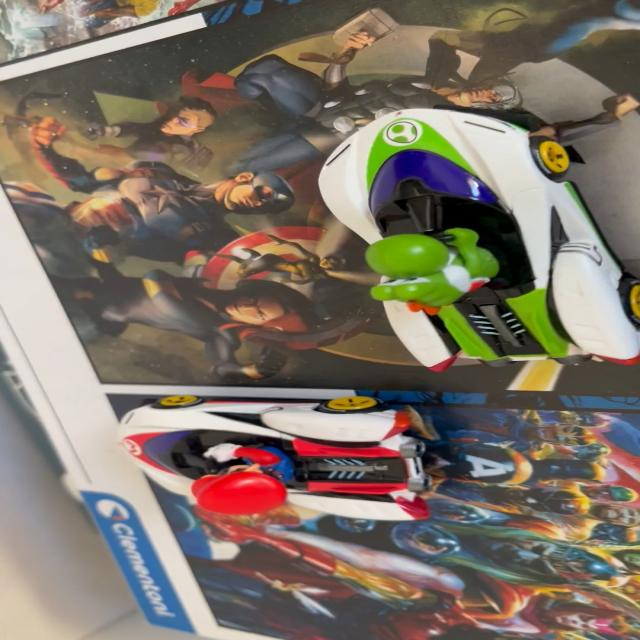mario: (105, 383, 472, 524)
yoshi: (294, 96, 636, 394)
